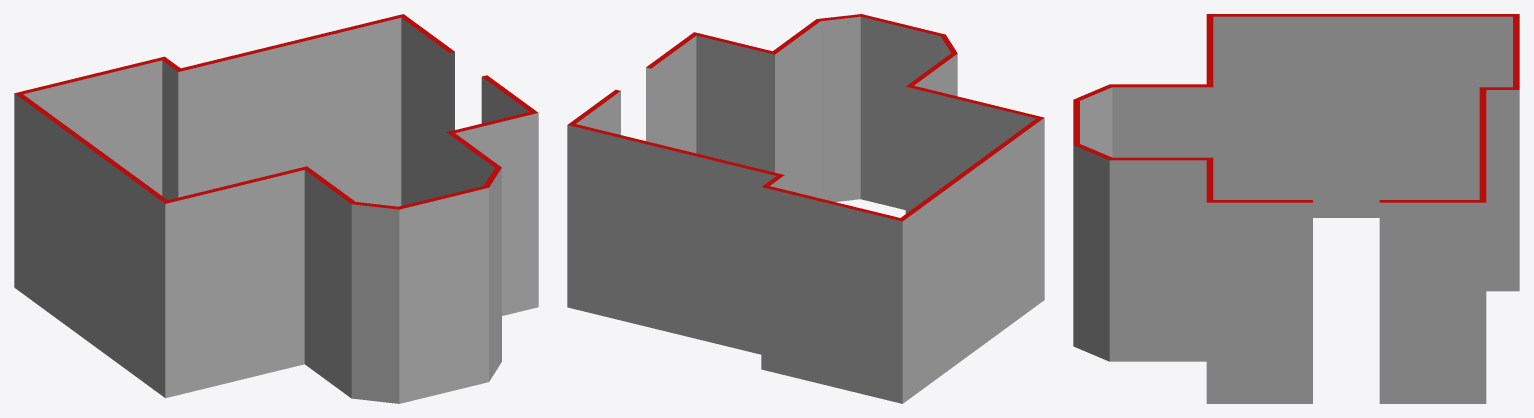
Rendered from x_BAZE_CONTUR_K5_part1_1_rmstrd.fbx.
The picture shows the model from 3 angles, left to right: view 1: azimuth 30°, elevation 25°; view 2: azimuth 150°, elevation 25°; view 3: azimuth 270°, elevation 25°; orthographic projection. The views are drawn at different scales.
Visible parts, largest first — view 1: x_BAZE_CONTUR_K5_part1_1_rmstrd1; view 2: x_BAZE_CONTUR_K5_part1_1_rmstrd1; view 3: x_BAZE_CONTUR_K5_part1_1_rmstrd1.
Part boxes in pixels (bbox=[...]): x_BAZE_CONTUR_K5_part1_1_rmstrd1: bbox=[14, 14, 538, 403]; x_BAZE_CONTUR_K5_part1_1_rmstrd1: bbox=[567, 14, 1044, 403]; x_BAZE_CONTUR_K5_part1_1_rmstrd1: bbox=[1073, 14, 1519, 403].
Bounding box in the file's own units: 26.8 × 13.34 × 26.8.
